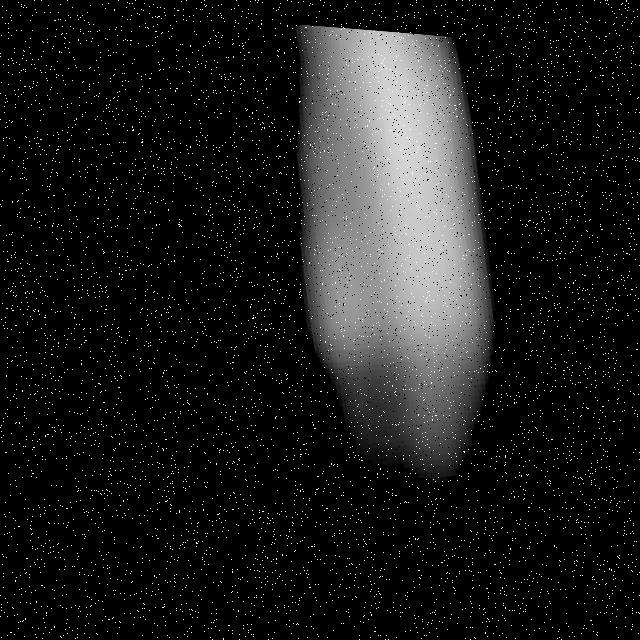person: (237, 17, 546, 534)
